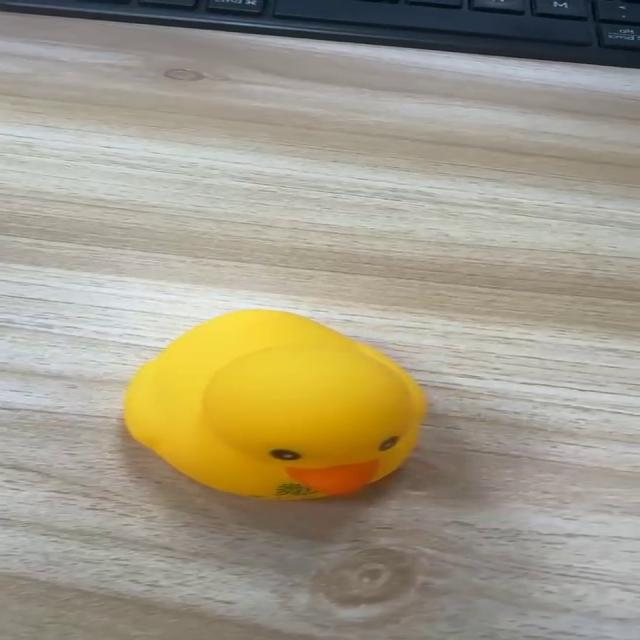yellow_duck: (121, 306, 429, 500)
